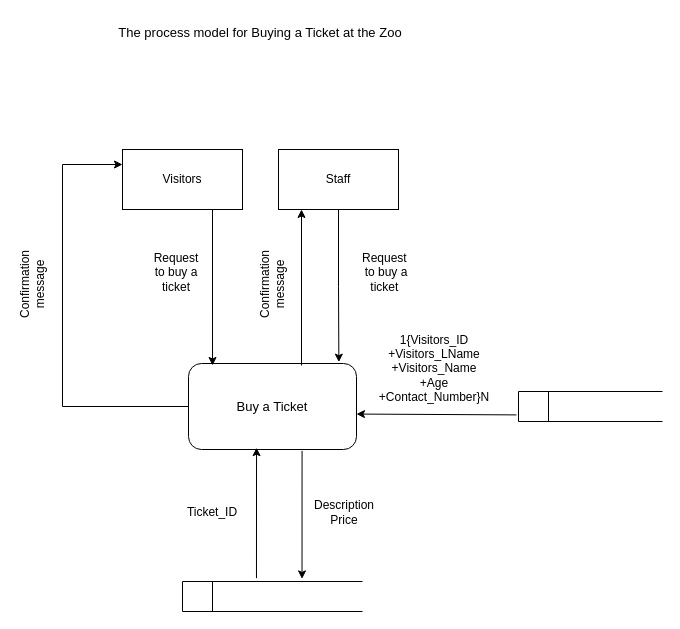
The diagram is 680 pixels wide and 629 high, and some of its shapes have lost their labels. The shapes that lost their labels are listed below. From the top down, each one's centre as x and y in pixels, then its label:
(x=590, y=406): D2 Visitors
(x=272, y=596): D1 Ticket
